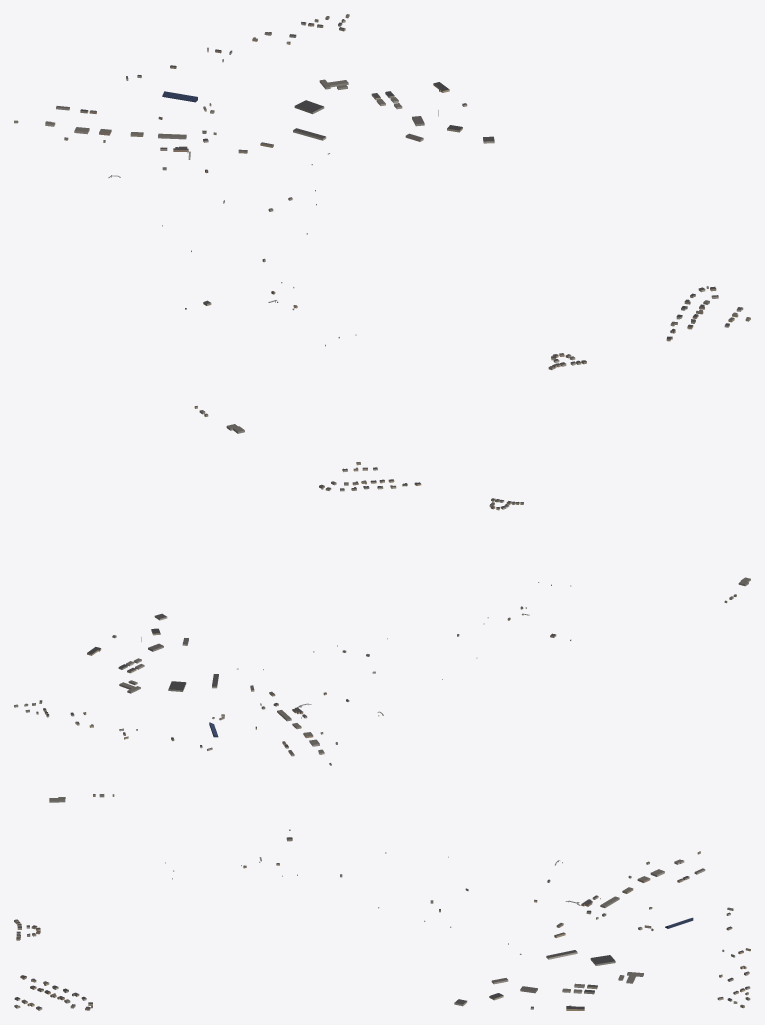
Rendered from scenery.glb.
3 views of the same model, one above another, from view 1: azimuth 30°, elevation 25°; view 2: azimuth 150°, elevation 25°; view 3: azimuth 270°, elevation 25° (orthographic). The views are drawn at different scales.
Parts seen in each view (by area): view 1: no part large enough to name; view 2: no part large enough to name; view 3: chunk_17_18, chunk_17_13, chunk_15_13, chunk_16_13.
Boxes of the visible parts, <box> form: chunk_17_18: <box>14,975,92,1010</box>; chunk_17_13: <box>562,972,643,1010</box>; chunk_15_13: <box>547,876,650,927</box>; chunk_16_13: <box>546,927,642,965</box>.
Size of the model in its own units: 1997 by 54.89 by 2808.
